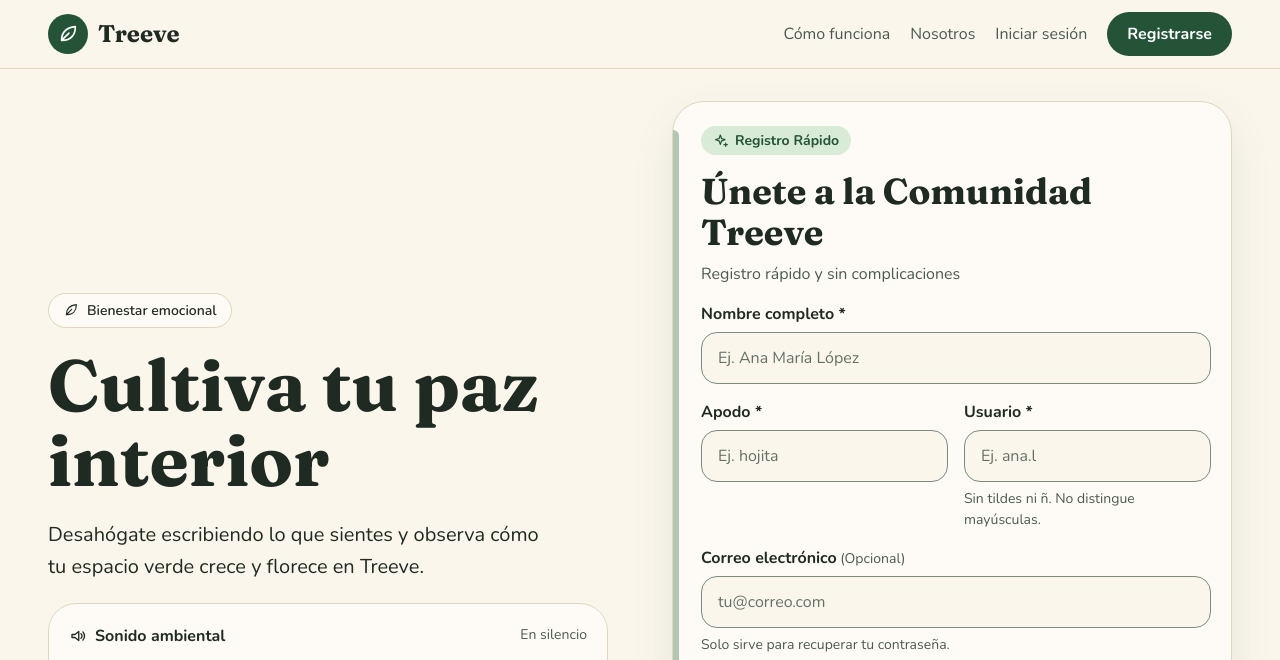
it: sin sesión › "Iniciar sesión" cambia el formulario y se puede volver al registro
The image size is (1280, 660).
Click the link "Iniciar sesión": x=1041, y=34 [995,23,1087,45]
(page scrolled)
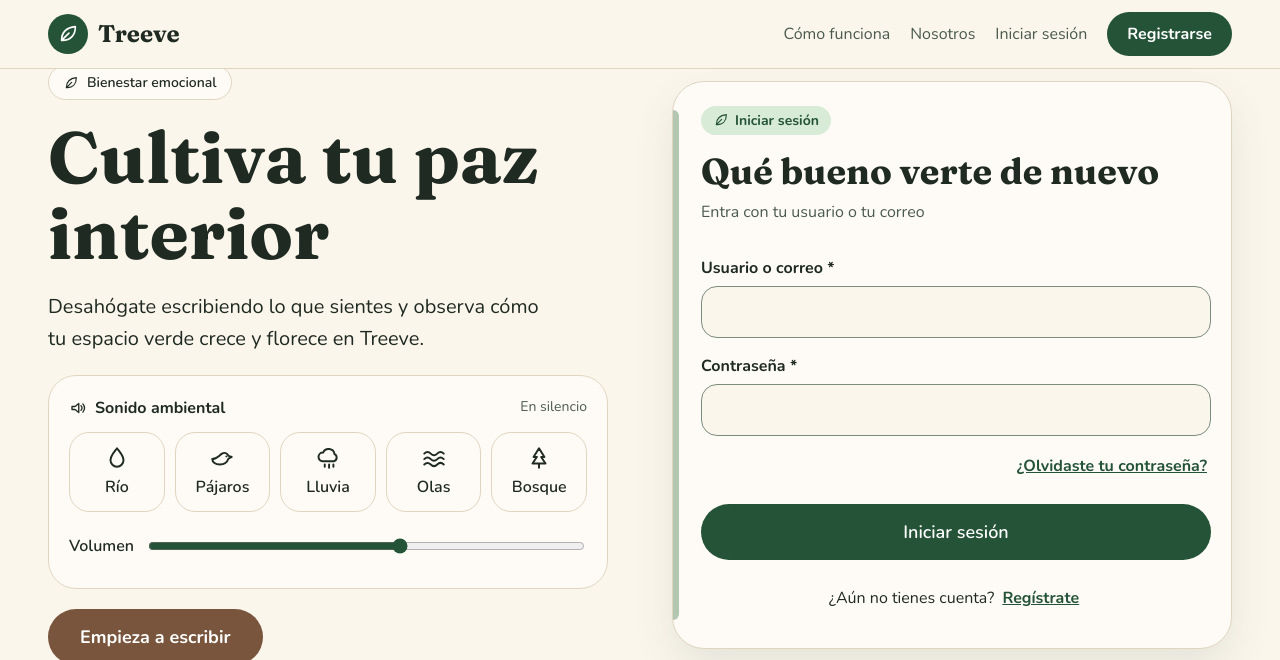
Expected: the button "Iniciar sesión" is shown, [701,504,1211,560]
Click the button "Regístrate": x=1041, y=598 [998,576,1083,620]
(page scrolled)
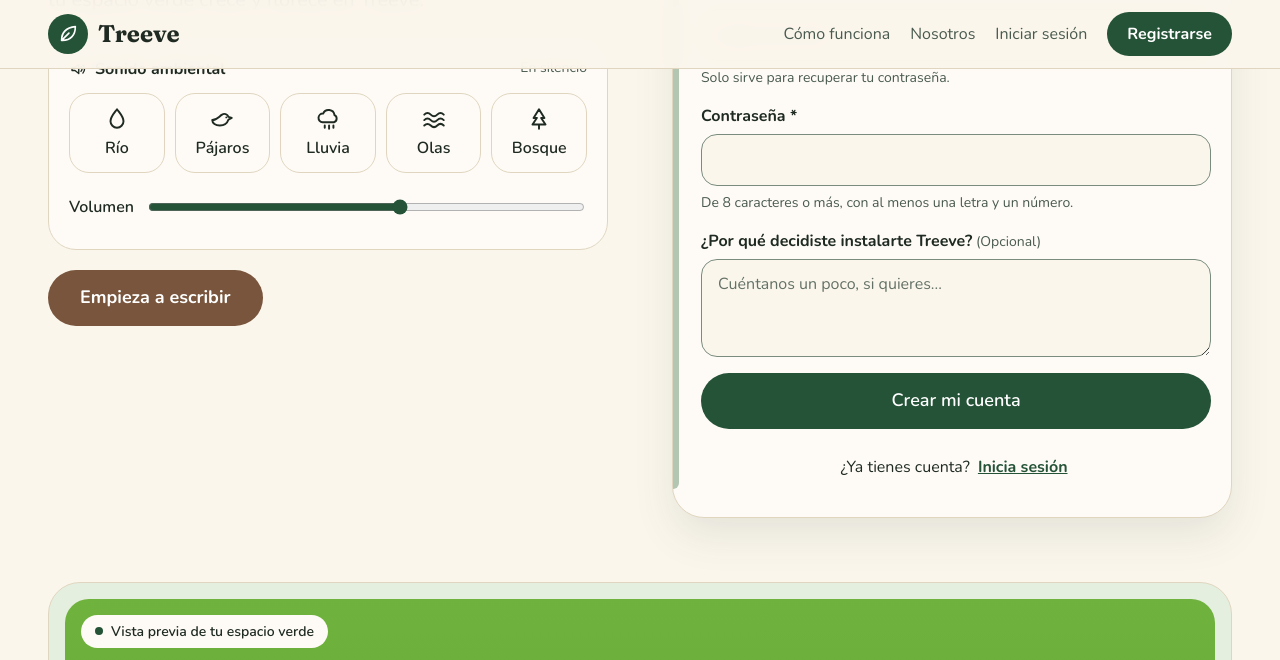
Expected: the button "Crear mi cuenta" is shown, [701,373,1211,429]
